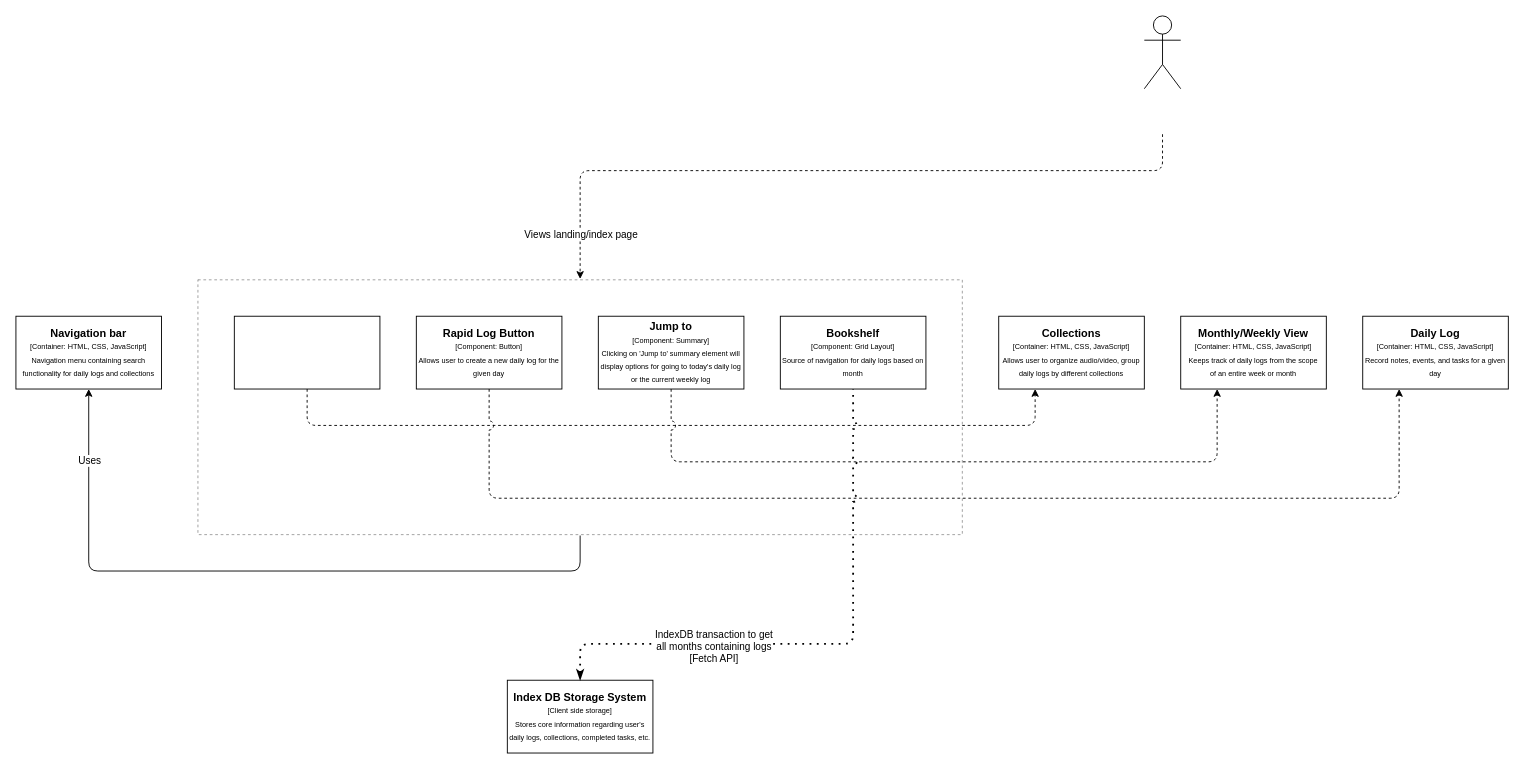
Some shapes in this 1524 by 769 pixel diagram are drawn without their labels. The centre of each missing label's shape, as x and y in pixels:
Actor [Person] User of our Bullet Journal, with existing submissions: point (1162, 52)
Collections Button [Component: Button] Allows user to go to Collections page: point (306, 352)
